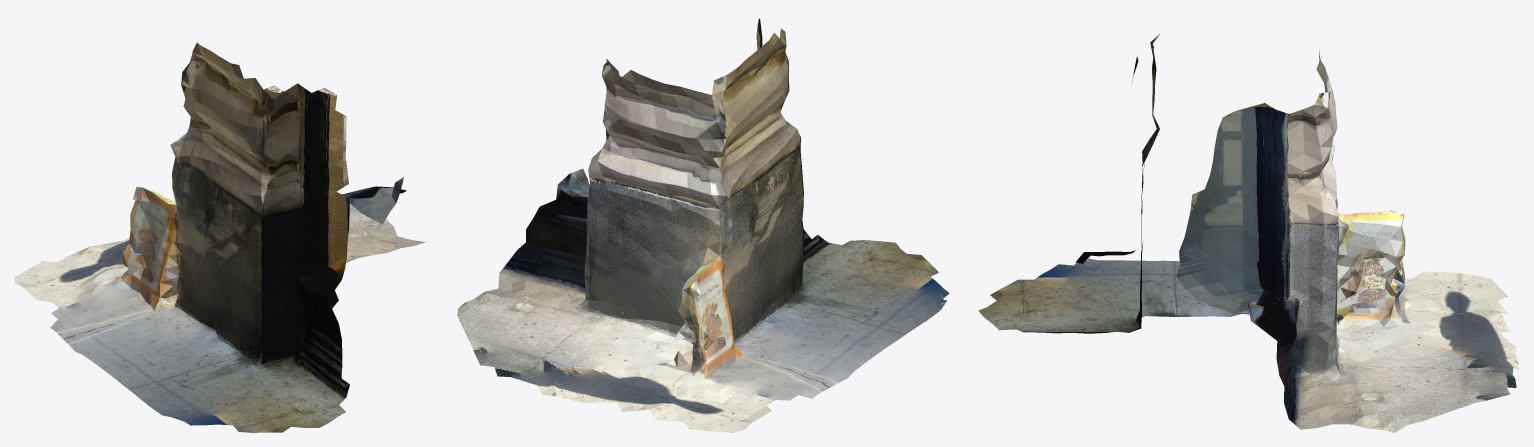
The picture shows the model from 3 angles, left to right: view 1: azimuth 30°, elevation 25°; view 2: azimuth 150°, elevation 25°; view 3: azimuth 270°, elevation 25°; orthographic projection. The views are drawn at different scales.
Size of the model in its own units: 4.35 by 3.37 by 5.24.
Materials: 1 (1 with a texture image).
